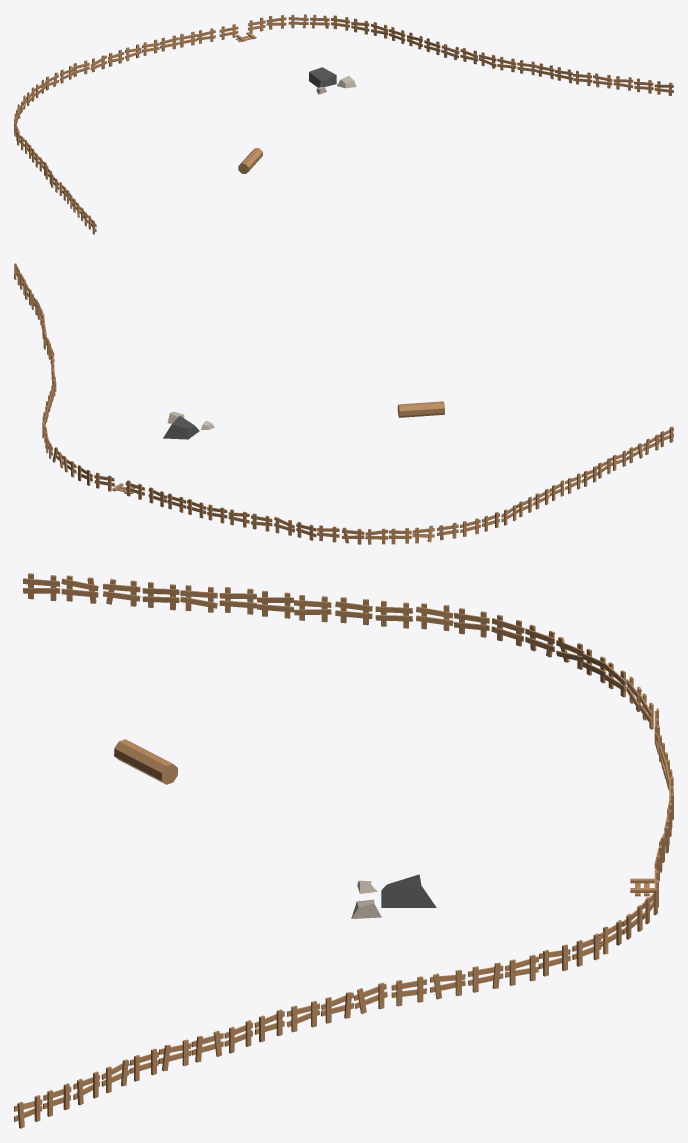
The model's file is Ground.glb.
3 renders of one model, top to bottom at view 1: azimuth 30°, elevation 25°; view 2: azimuth 150°, elevation 25°; view 3: azimuth 270°, elevation 25°, orthographic. The views are drawn at different scales.
Visible parts, largest first — view 1: fence, Cube.004, log; view 2: fence, log, Cube.004; view 3: fence, log, Cube.004.
Part boxes in pixels (left/top/right/bottom): fence: left=14, top=14, right=673, bottom=234; Cube.004: left=309, top=67, right=336, bottom=87; log: left=238, top=148, right=262, bottom=173; fence: left=14, top=263, right=673, bottom=544; log: left=397, top=401, right=444, bottom=417; Cube.004: left=163, top=416, right=199, bottom=439; fence: left=14, top=573, right=673, bottom=1128; log: left=114, top=739, right=177, bottom=784; Cube.004: left=381, top=874, right=436, bottom=907.
Size of the model in its own units: 65.61 by 1.45 by 34.44.
Materials: 2 (2 with a texture image).
